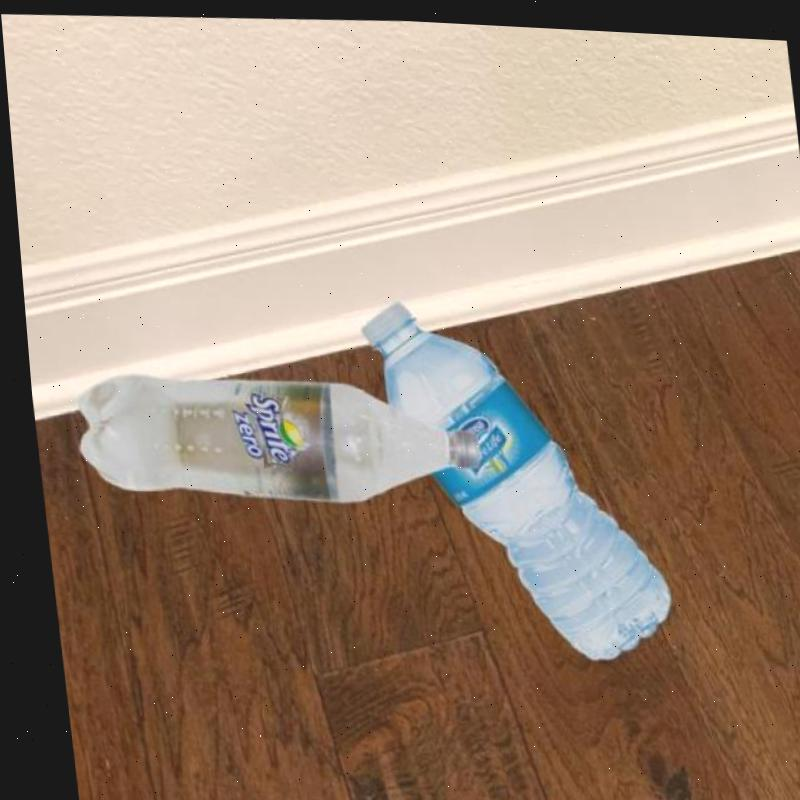botella: (350, 287, 673, 665), (61, 352, 484, 521)
